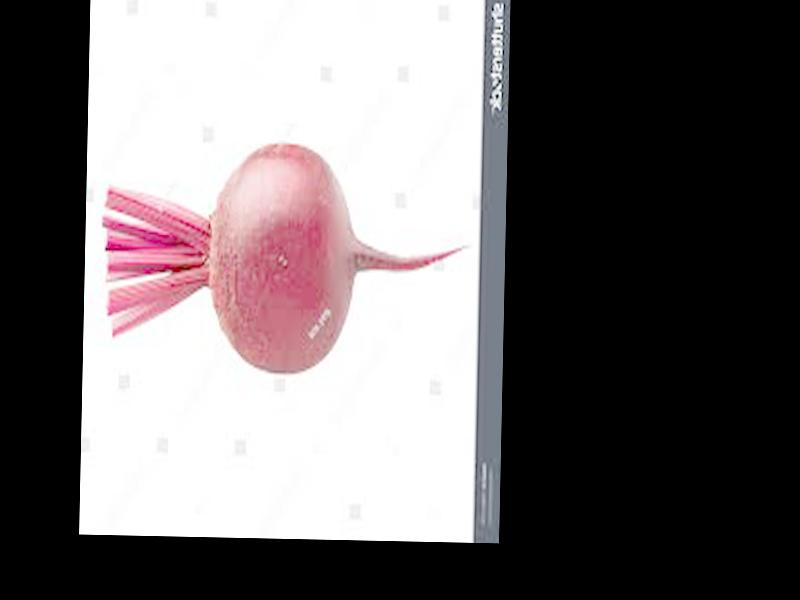Beet: (101, 140, 471, 377)
